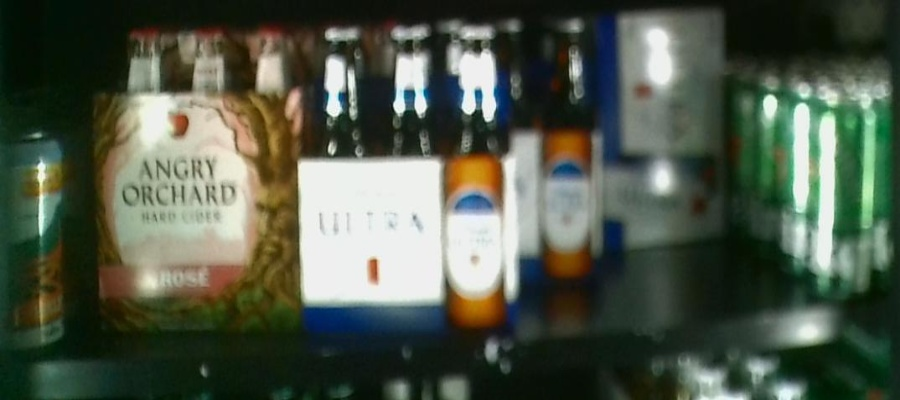bottle: (295, 25, 520, 326), (96, 25, 296, 335), (602, 8, 718, 246)
